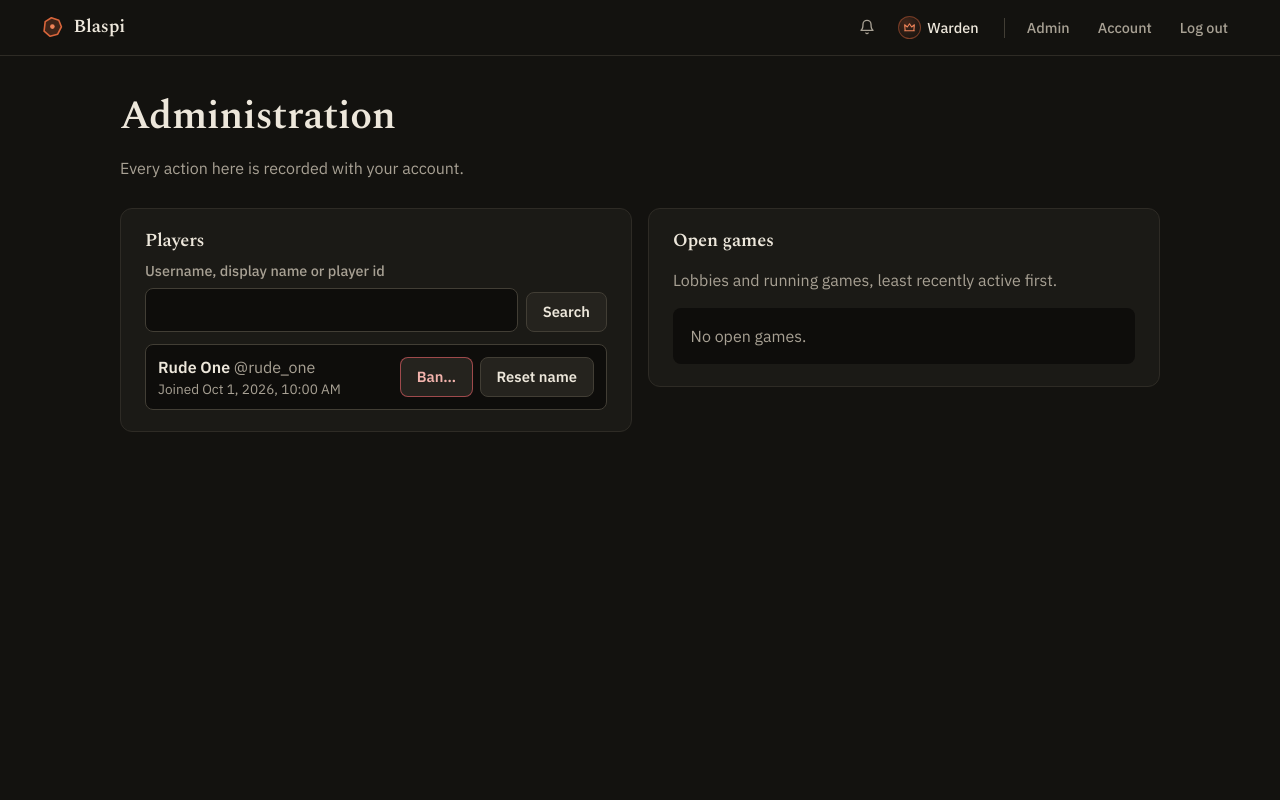
Test: AdminPage › suspends a player with a reason and shows the suspension
Click the button "Ban…" at (436, 377), box top-left (400, 357), bottom-right (473, 397)
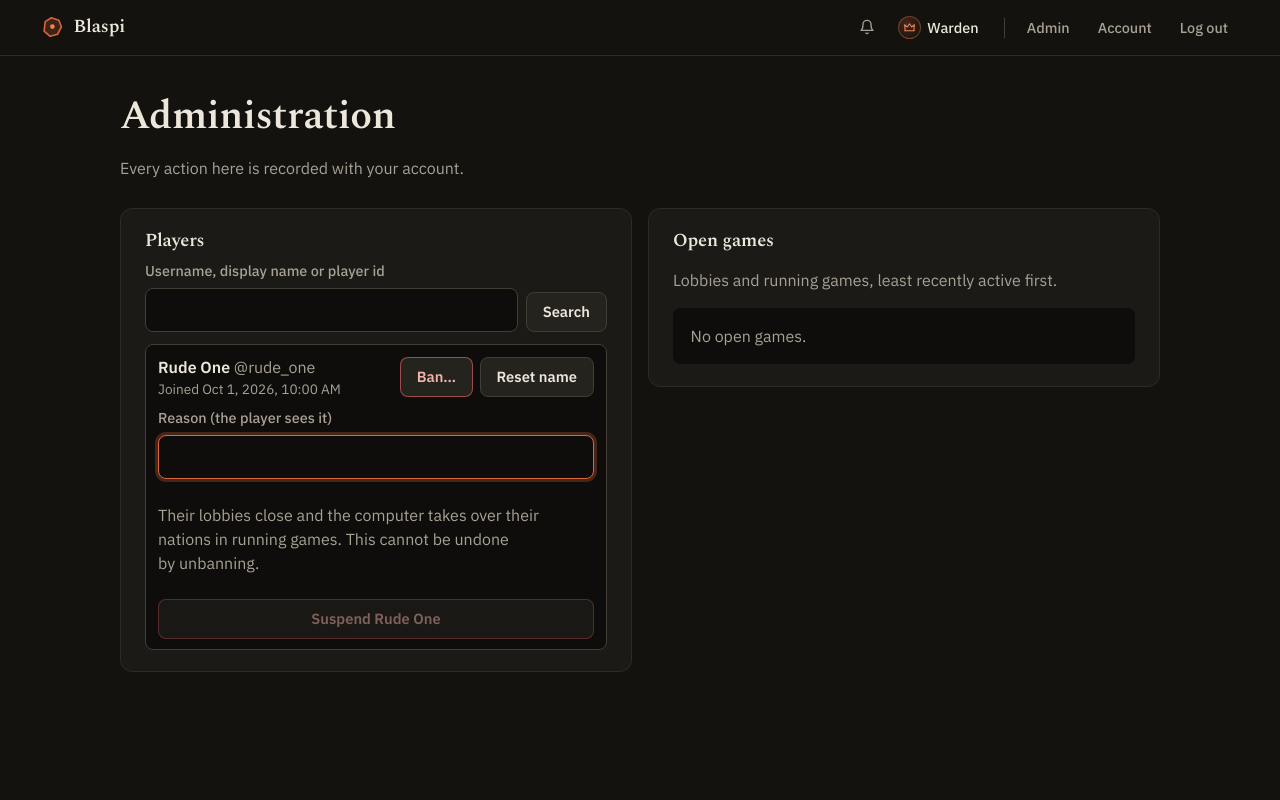
Check: the button "Suspend Rude One" is disabled, box top-left (158, 599), bottom-right (594, 639)
Type "Offensive messages" into the field labelled "Reason (the player sees it)" at (376, 457), box top-left (158, 435), bottom-right (594, 479)
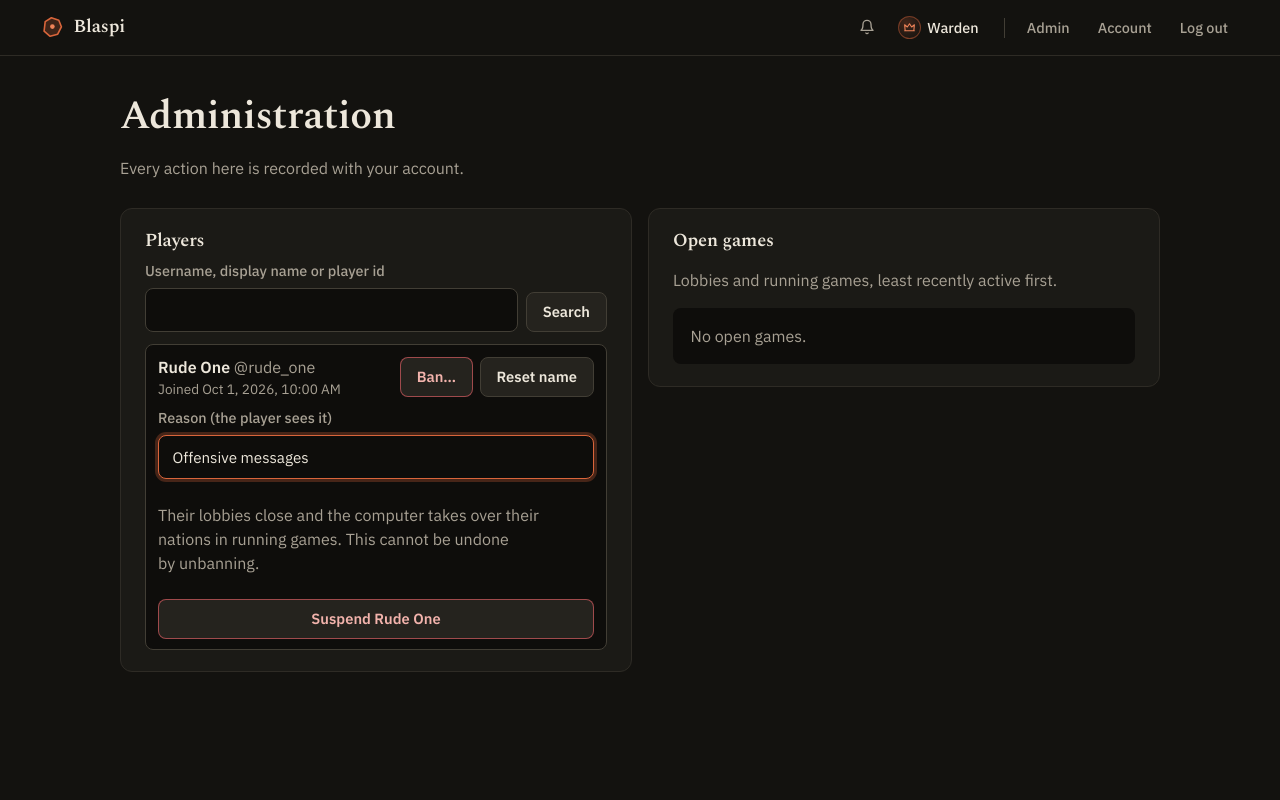
Click the button "Suspend Rude One" at (376, 619), box top-left (158, 599), bottom-right (594, 639)
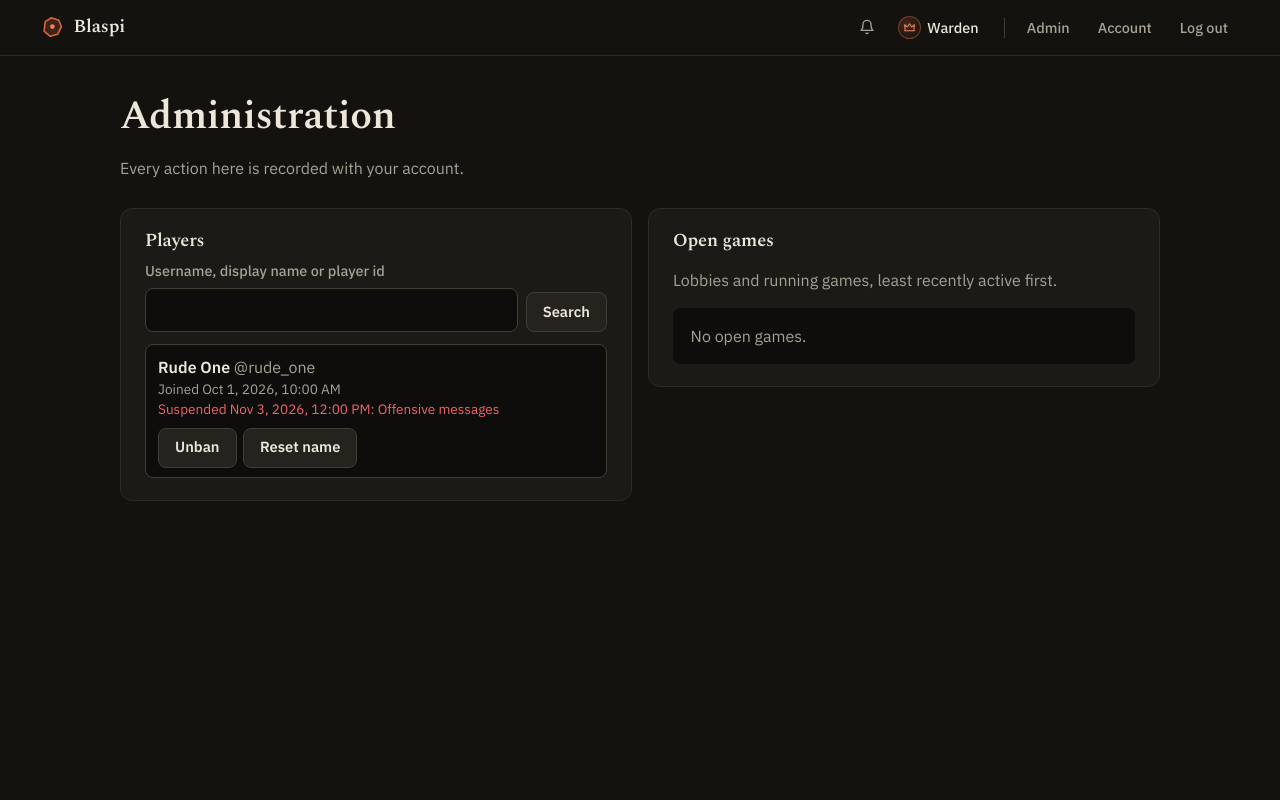
Check: the text "Suspended Nov 3, 2026, 12:00 PM: Offensive messages" is shown, box top-left (158, 399), bottom-right (499, 420)
Check: the button "Unban" is shown, box top-left (158, 428), bottom-right (236, 468)
